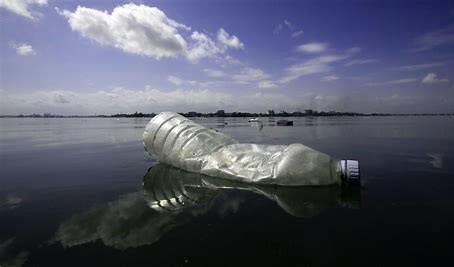Plastic: (142, 112, 362, 190)
